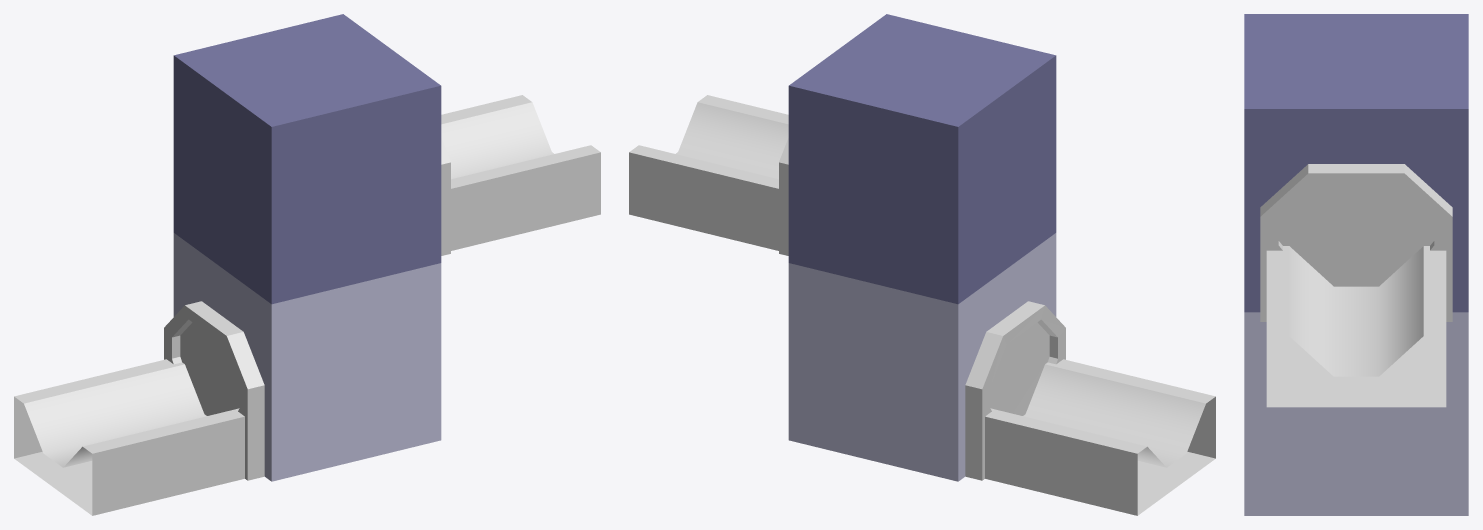
The model's file is looseele1.fbx.
3 views of the same model, side by side, from view 1: azimuth 30°, elevation 25°; view 2: azimuth 150°, elevation 25°; view 3: azimuth 270°, elevation 25° (orthographic). The views are drawn at different scales.
Visible parts, largest first — view 1: SmallStorage_LooseElevator1; view 2: SmallStorage_LooseElevator1; view 3: SmallStorage_LooseElevator1.
Part boxes in pixels (<box>): SmallStorage_LooseElevator1: <box>14,14,600,515</box>; SmallStorage_LooseElevator1: <box>629,14,1215,515</box>; SmallStorage_LooseElevator1: <box>1244,14,1468,515</box>.
Bounding box in the file's own units: 600 × 400 × 200.
